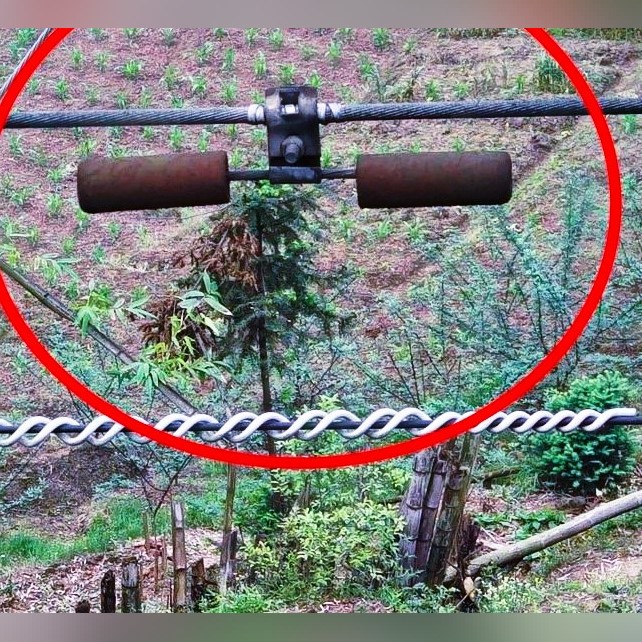Shockproof hammer: (55, 73, 521, 232)
